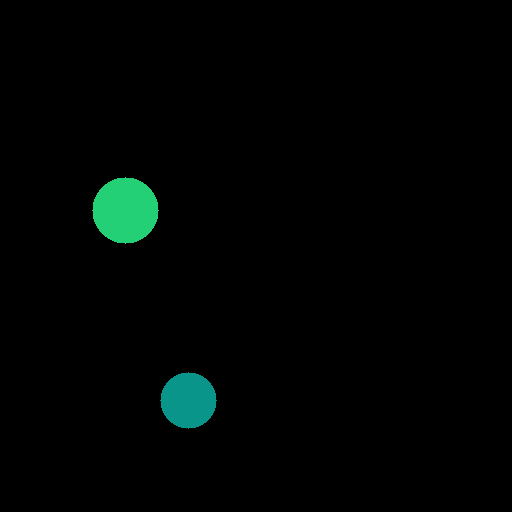circle: (93, 175, 164, 244), (160, 372, 218, 427)
